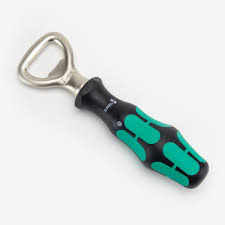bottleopener: (16, 32, 209, 189)
